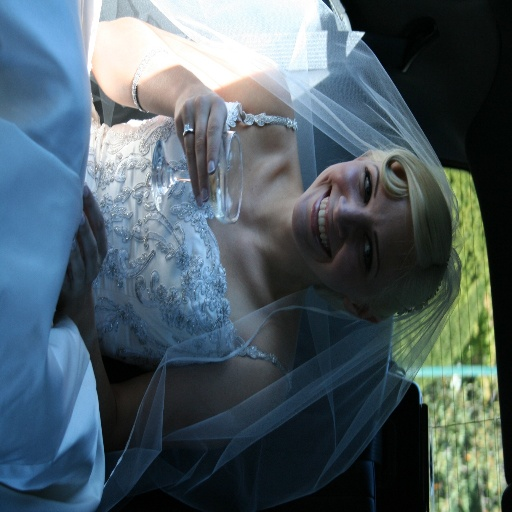hand: (166, 77, 238, 199), (55, 180, 108, 323)
